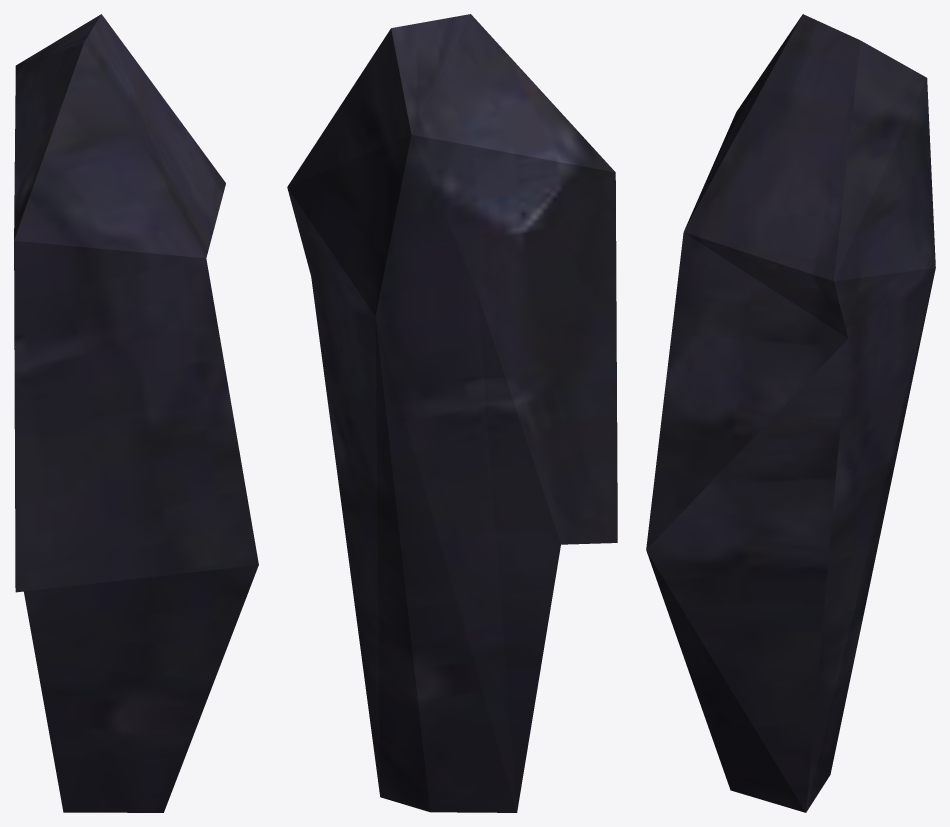
Rendered from GZ_Xsc_fushi_02_D.FBX.
3 views of the same model, side by side, from view 1: azimuth 30°, elevation 25°; view 2: azimuth 150°, elevation 25°; view 3: azimuth 270°, elevation 25° (orthographic). The views are drawn at different scales.
Visible parts, largest first — view 1: GZ_Xsc_fushi_02_D; view 2: GZ_Xsc_fushi_02_D; view 3: GZ_Xsc_fushi_02_D.
Part boxes in pixels (x1,y1,x2,y2): GZ_Xsc_fushi_02_D: [14, 14, 258, 812]; GZ_Xsc_fushi_02_D: [287, 14, 617, 812]; GZ_Xsc_fushi_02_D: [646, 14, 935, 812].
Bounding box in the file's own units: 8.09 × 22.42 × 7.77.
